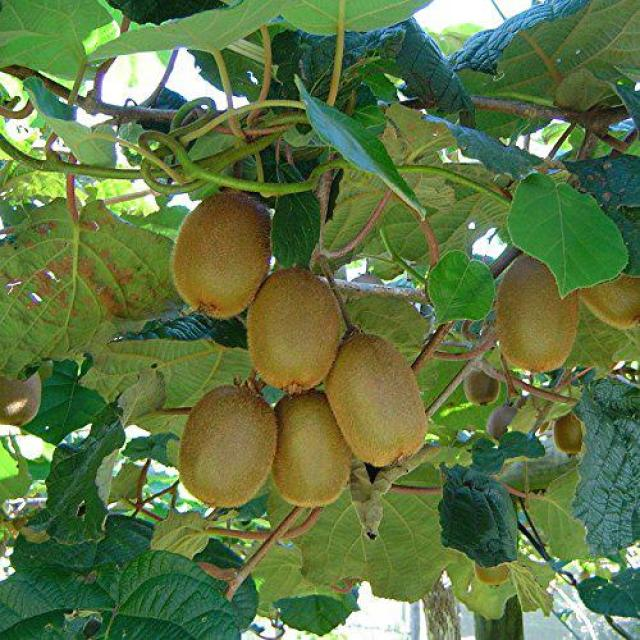kiwi: (166, 182, 281, 324), (321, 330, 432, 468), (177, 377, 278, 507), (248, 265, 347, 397), (490, 249, 587, 375), (269, 389, 361, 513), (578, 256, 640, 338), (1, 361, 51, 431), (552, 407, 594, 463), (457, 366, 507, 413), (473, 552, 522, 597), (483, 399, 529, 441)
